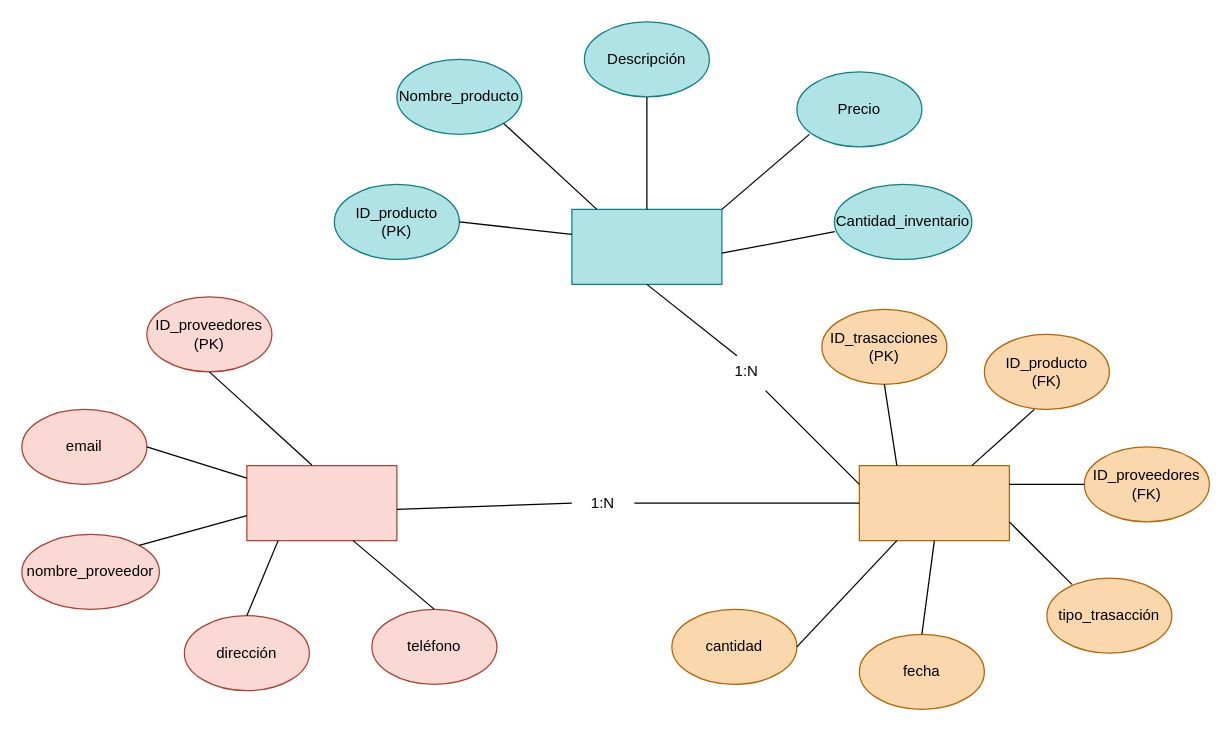
The diagram is 1231 pixels wide and 731 high, and some of its shapes have lost their labels. Here are the shapes that lost their labels. From the top down, the centre of each, then its label:
At (646,246): "Productos".
At (321,502): "Proveedores".
At (933,502): "Transacciones".
